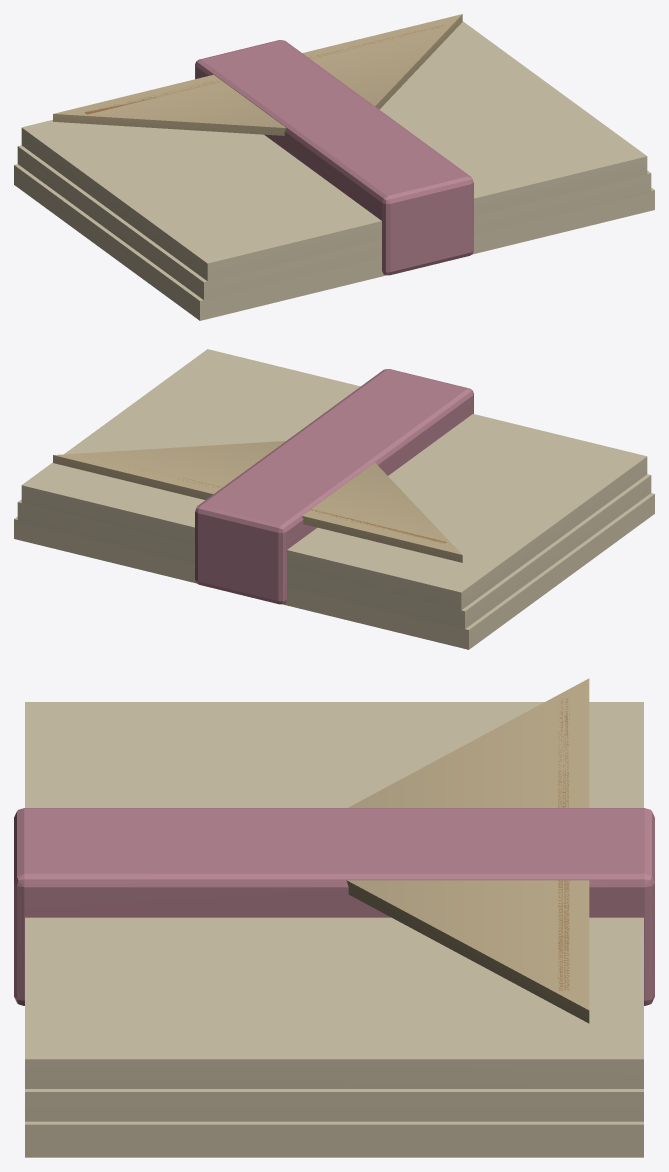
The model's file is letter_paper.glb.
3 views of the same model, one above another, from view 1: azimuth 30°, elevation 25°; view 2: azimuth 150°, elevation 25°; view 3: azimuth 270°, elevation 25° (orthographic). The views are drawn at different scales.
Bounding box in the file's own units: 0.24 × 0.04 × 0.176.
